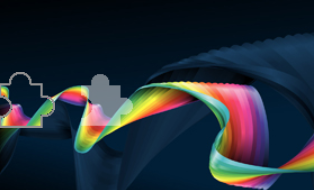target: (77, 69, 139, 131)
